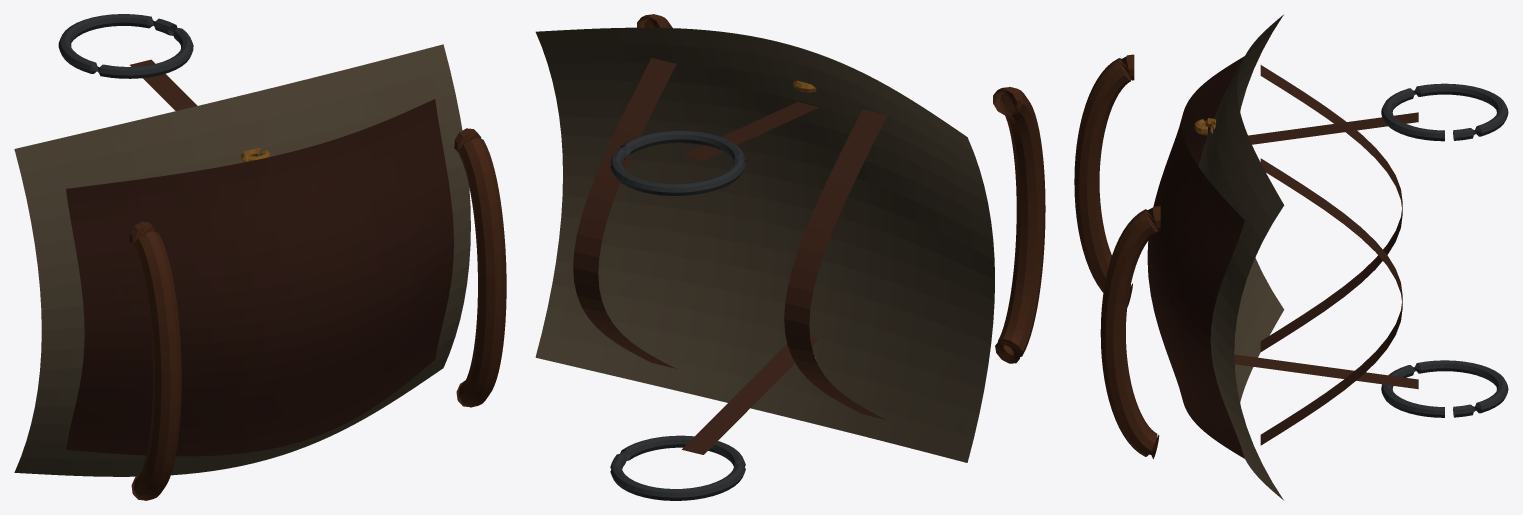
3 views of the same model, side by side, from view 1: azimuth 30°, elevation 25°; view 2: azimuth 150°, elevation 25°; view 3: azimuth 270°, elevation 25° (orthographic). The views are drawn at different scales.
Visible parts, largest first — view 1: Saddle; view 2: Saddle; view 3: Saddle.
Part boxes in pixels (x1,y1,x2,y2): Saddle: [14, 14, 506, 500]; Saddle: [535, 14, 1045, 500]; Saddle: [1074, 14, 1508, 500].
Bounding box in the file's own units: 0.86 × 0.71 × 0.8248.
